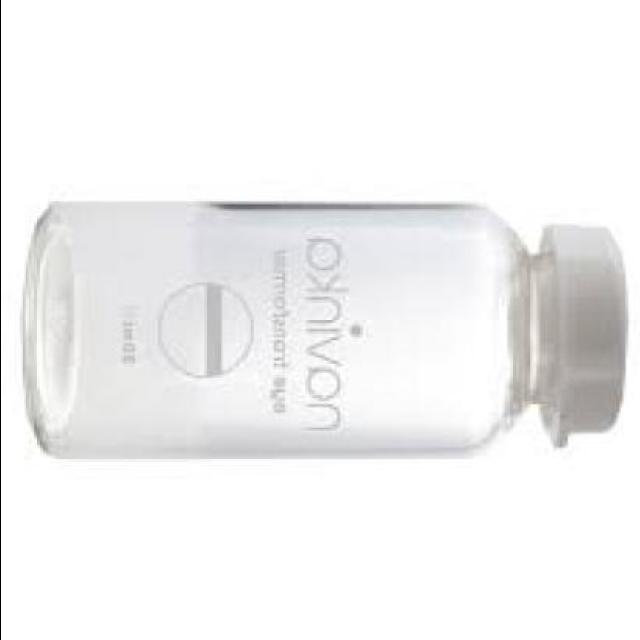kaca: (29, 201, 544, 459)
